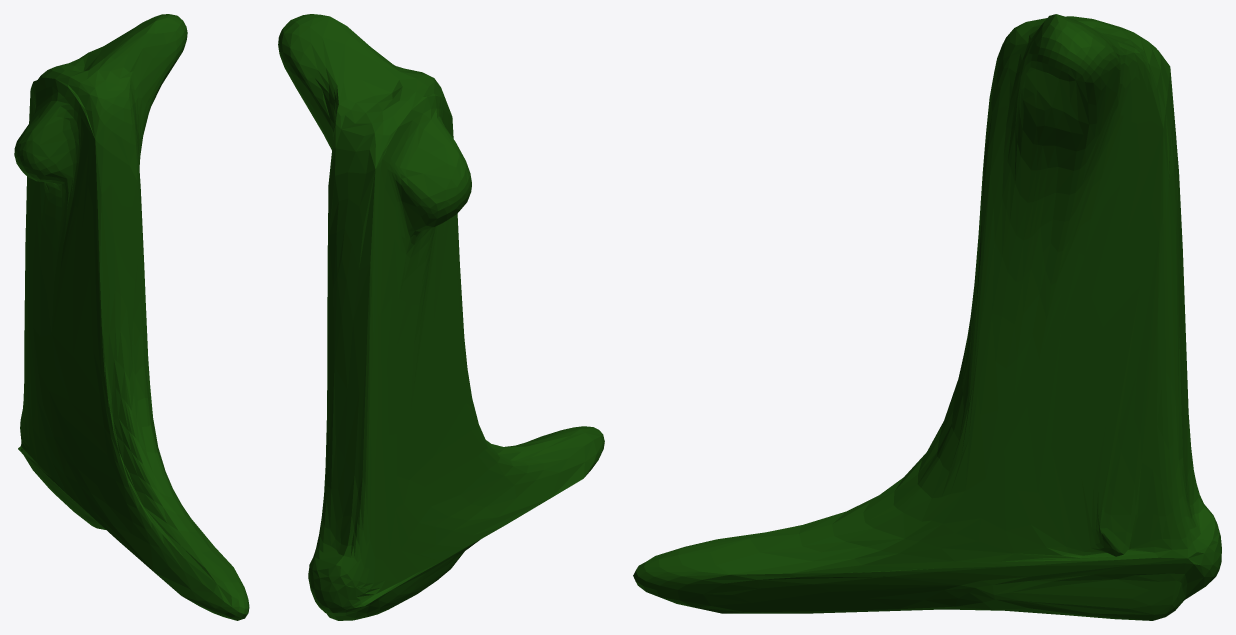
The picture shows the model from 3 angles, left to right: view 1: azimuth 30°, elevation 25°; view 2: azimuth 150°, elevation 25°; view 3: azimuth 270°, elevation 25°; orthographic projection. The views are drawn at different scales.
Visible parts, largest first — view 1: 488_Cube.1979; view 2: 488_Cube.1979; view 3: 488_Cube.1979.
Boxes of the visible parts, left/top/right/bottom form: 488_Cube.1979: left=14, top=14, right=249, bottom=620; 488_Cube.1979: left=278, top=14, right=604, bottom=620; 488_Cube.1979: left=633, top=14, right=1221, bottom=620.
Size of the model in its own units: 4.79 by 13.58 by 11.35.
